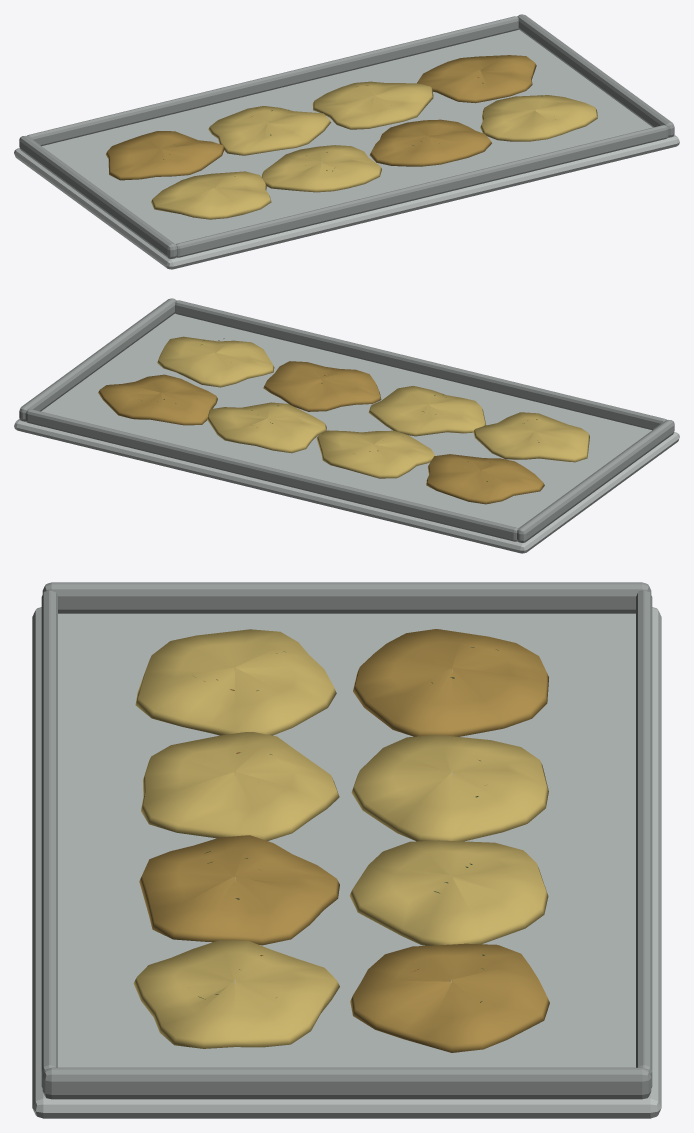
The model's file is plates.glb.
3 renders of one model, top to bottom at view 1: azimuth 30°, elevation 25°; view 2: azimuth 150°, elevation 25°; view 3: azimuth 270°, elevation 25°, orthographic. The views are drawn at different scales.
Visible parts, largest first — view 1: G010_plates; view 2: G010_plates; view 3: G010_plates.
Boxes of the visible parts, x1,y1,x2,y2 form: G010_plates: (14,14,679,269); G010_plates: (14,298,679,553); G010_plates: (32,582,661,1118).
Bounding box in the file's own units: 0.65 × 0.0299 × 0.345.
